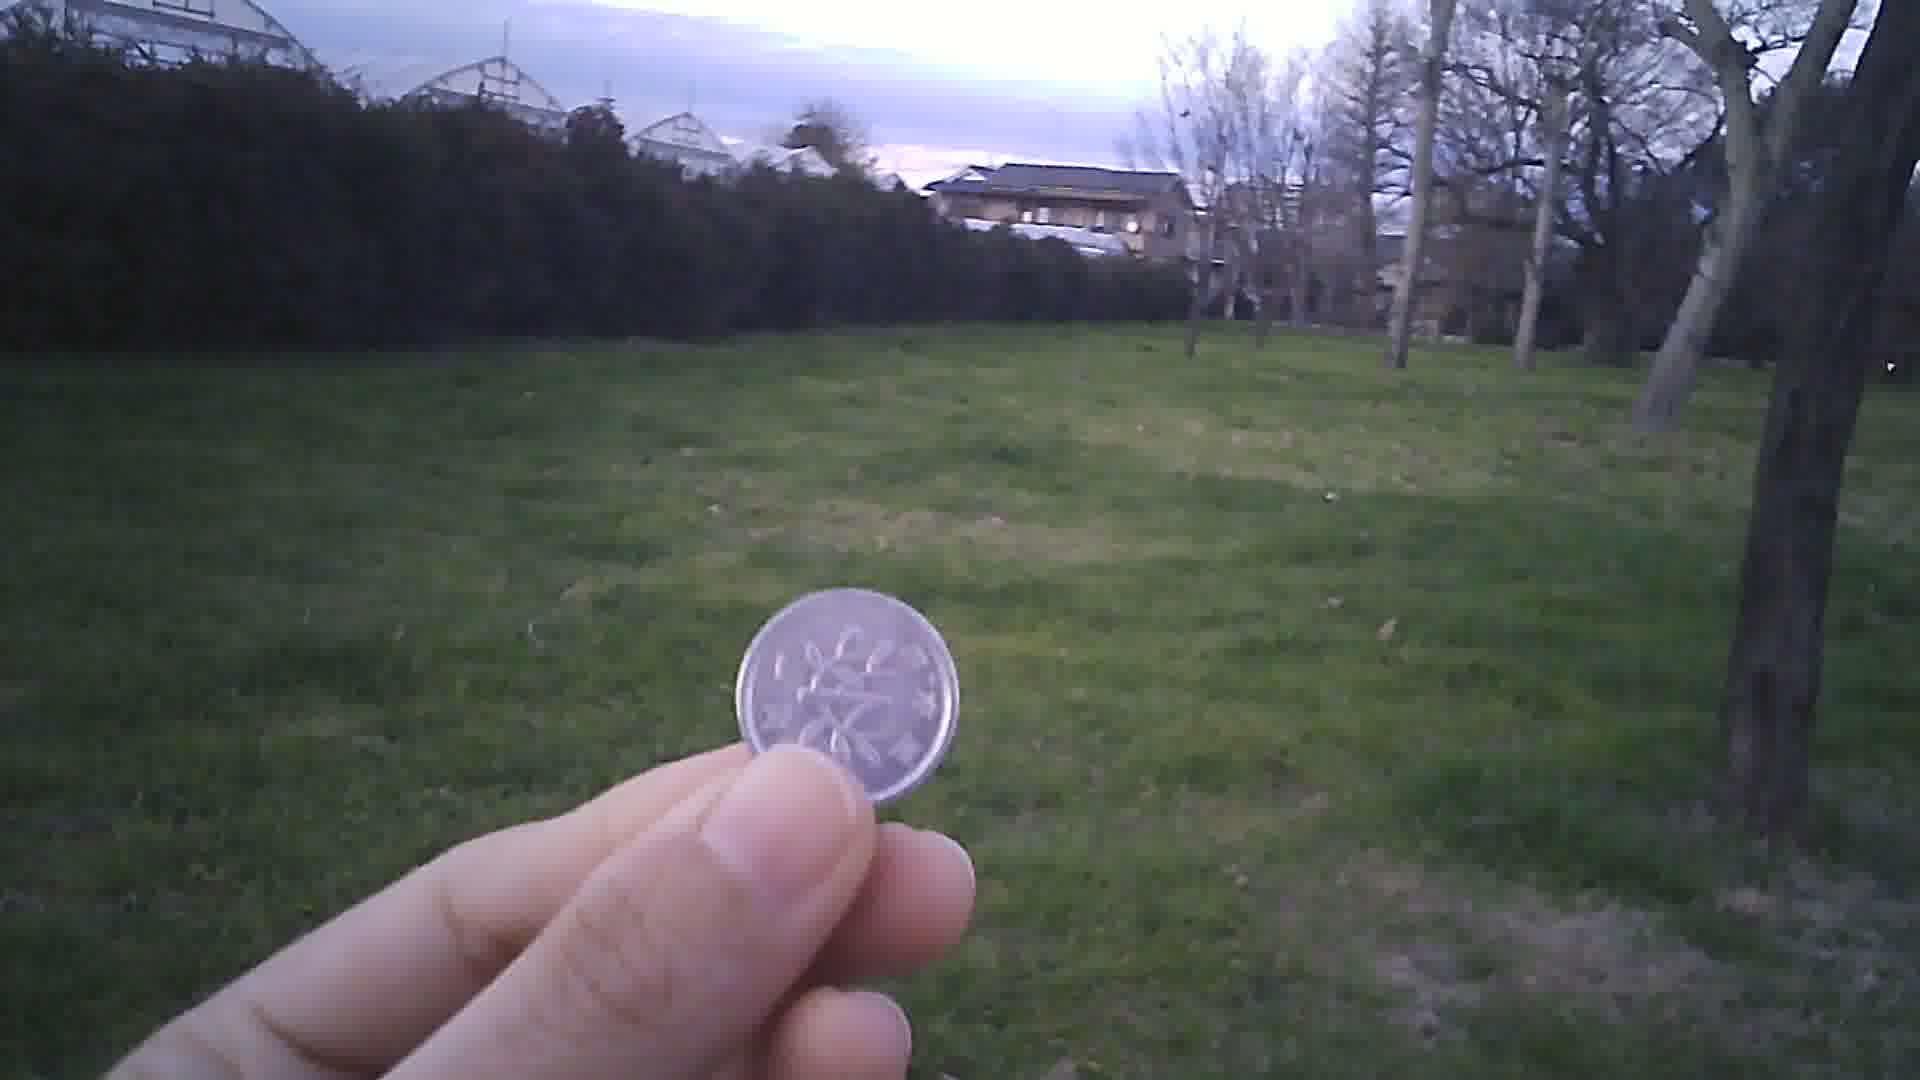1 Yen: (729, 580, 963, 807)
